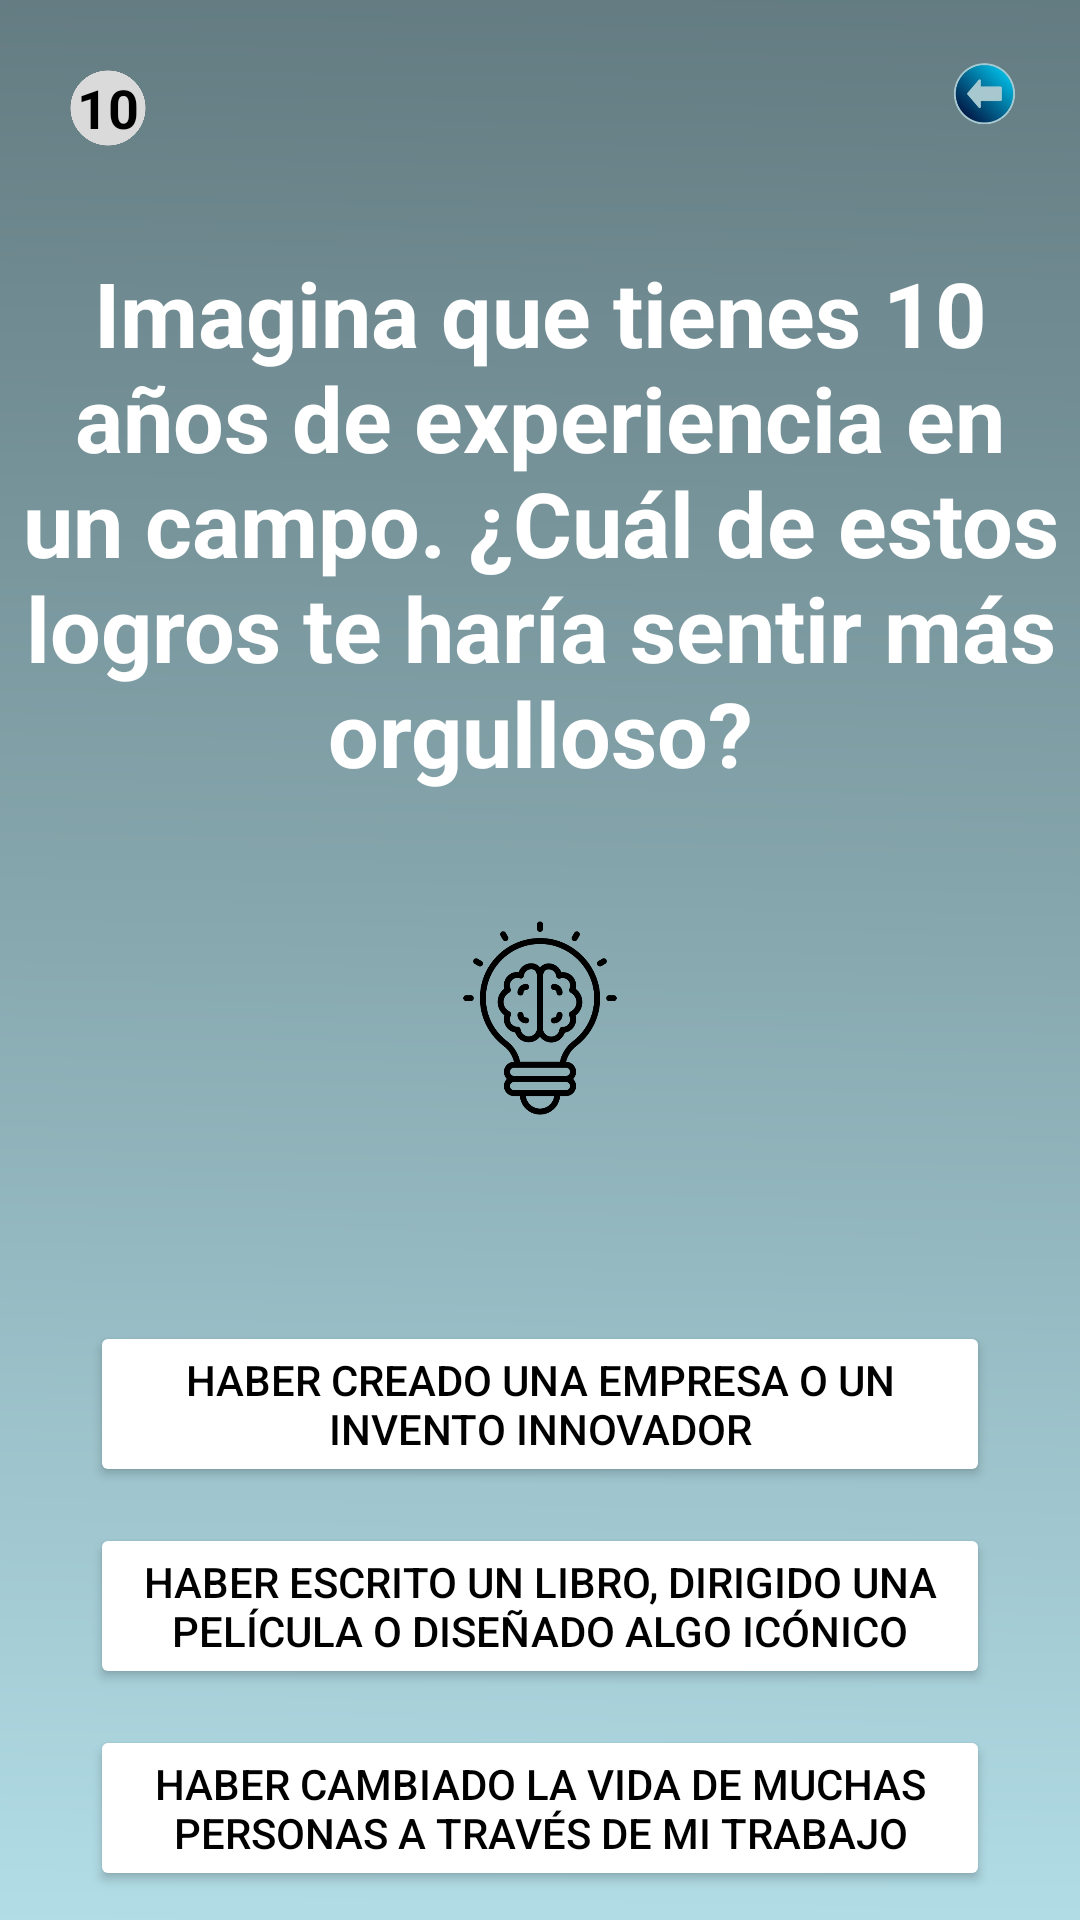

Icon click points for this 1080 × 1920 phone screenshot, format (x,y):
idea: (540,1018)
retroceso: (984,93)
